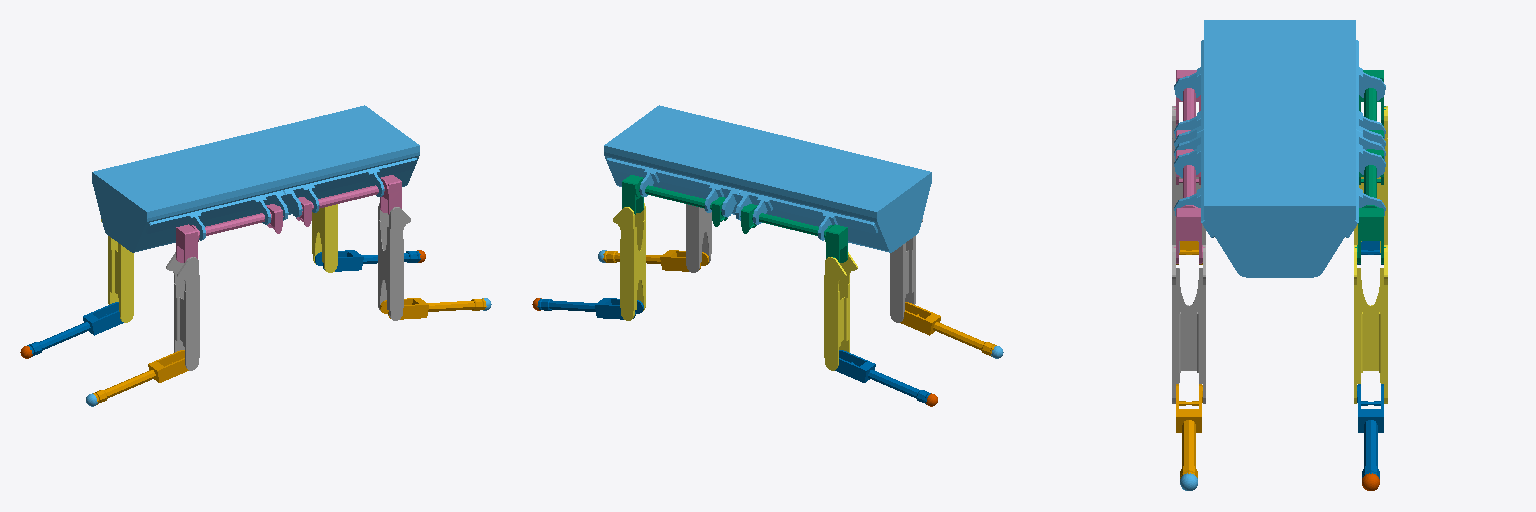
robot.urdf — hyq:
<?xml version="1.0" encoding="utf-8"?>
<!-- =================================================================================== -->
<!-- |    This document was autogenerated by xacro from hyq.urdf.xacro                 | -->
<!-- |    EDITING THIS FILE BY HAND IS NOT RECOMMENDED                                 | -->
<!-- =================================================================================== -->
<robot name="hyq">
  <!-- Floating-base Joint -->
  <joint name="floating_base" type="fixed">
    <origin rpy="0 0 0" xyz="0 0 0"/>
    <parent link="base"/>
    <child link="trunk"/>
  </joint>
  <!-- Footprint link -->
  <link name="base">
    <visual>
      <geometry>
        <cylinder length="0.01" radius="0.01"/>
      </geometry>
    </visual>
  </link>
  <!-- Trunk link -->
  <link name="trunk">
    <visual>
      <geometry>
        <mesh filename="../meshes/trunk/trunk.stl" scale="1 1 1"/>
      </geometry>
    </visual>
    <collision>
      <geometry>
        <mesh filename="../meshes/trunk/trunk.stl" scale="1 1 1"/>
      </geometry>
    </collision>
  </link>
  <!-- Joints -->
  <!-- Hip assembly joint -->
  <joint name="lf_haa_joint" type="revolute">
    <origin rpy="0 1.57079632679 3.14159265359" xyz="0.3735 0.207 0"/>
    <parent link="trunk"/>
    <child link="lf_hipassembly"/>
    <axis xyz="0 0 1"/>
    <limit effort="150.0" lower="-1.2217304764" upper="0.523598775598" velocity="12.0"/>
  </joint>
  <!-- Upper leg joint -->
  <joint name="lf_hfe_joint" type="revolute">
    <origin rpy="1.57079632679 0 0" xyz="0.082 0 0"/>
    <parent link="lf_hipassembly"/>
    <child link="lf_upperleg"/>
    <axis xyz="0 0 1"/>
    <limit effort="150.0" lower="-0.872664625997" upper="1.2217304764" velocity="12.0"/>
  </joint>
  <!-- Lower leg joint -->
  <joint name="lf_kfe_joint" type="revolute">
    <origin rpy="0 0 0" xyz="0.35 0 0"/>
    <parent link="lf_upperleg"/>
    <child link="lf_lowerleg"/>
    <axis xyz="0 0 1"/>
    <limit effort="150.0" lower="-2.44346095279" upper="-0.349065850399" velocity="12.0"/>
  </joint>
  <!-- Foot joint -->
  <joint name="lf_foot_joint" type="fixed">
    <origin rpy="1.57079632679 0 -1.57079632679" xyz="0.35 0 0"/>
    <parent link="lf_lowerleg"/>
    <child link="lf_foot"/>
  </joint>
  <!-- Links -->
  <!-- Hip assembly link -->
  <link name="lf_hipassembly">
    <visual>
      <origin rpy="0.0 0 0" xyz="0 0 0"/>
      <geometry>
        <mesh filename="../meshes/leg/hipassembly.stl" scale="1 1 1"/>
      </geometry>
    </visual>
  </link>
  <!-- Upper leg link -->
  <link name="lf_upperleg">
    <visual>
      <origin rpy="0.0 0 0" xyz="0 0 0"/>
      <geometry>
        <mesh filename="../meshes/leg/upperleg.stl" scale="1 1 1"/>
      </geometry>
    </visual>
  </link>
  <!-- Lower leg link -->
  <link name="lf_lowerleg">
    <visual>
      <geometry>
        <mesh filename="../meshes/leg/lowerleg.stl" scale="1 1 1"/>
      </geometry>
      <material name="white"/>
    </visual>
  </link>
  <!-- Foot link -->
  <link name="lf_foot">
    <visual>
      <origin rpy="0.0 0.0 0.0" xyz="0.0 0.0 0.0"/>
      <geometry>
        <sphere radius="0.021"/>
      </geometry>
    </visual>
  </link>
  <!-- Joints -->
  <!-- Hip assembly joint -->
  <joint name="rf_haa_joint" type="revolute">
    <origin rpy="0 1.57079632679 0" xyz="0.3735 -0.207 0"/>
    <parent link="trunk"/>
    <child link="rf_hipassembly"/>
    <axis xyz="0 0 1"/>
    <limit effort="150.0" lower="-1.2217304764" upper="0.523598775598" velocity="12.0"/>
  </joint>
  <!-- Upper leg joint -->
  <joint name="rf_hfe_joint" type="revolute">
    <origin rpy="-1.57079632679 0 0" xyz="0.082 0 0"/>
    <parent link="rf_hipassembly"/>
    <child link="rf_upperleg"/>
    <axis xyz="0 0 1"/>
    <limit effort="150.0" lower="-0.872664625997" upper="1.2217304764" velocity="12.0"/>
  </joint>
  <!-- Lower leg joint -->
  <joint name="rf_kfe_joint" type="revolute">
    <origin rpy="0 0 0" xyz="0.35 0 0"/>
    <parent link="rf_upperleg"/>
    <child link="rf_lowerleg"/>
    <axis xyz="0 0 1"/>
    <limit effort="150.0" lower="-2.44346095279" upper="-0.349065850399" velocity="12.0"/>
  </joint>
  <!-- Foot joint -->
  <joint name="rf_foot_joint" type="fixed">
    <origin rpy="1.57079632679 0 -1.57079632679" xyz="0.35 0 0"/>
    <parent link="rf_lowerleg"/>
    <child link="rf_foot"/>
  </joint>
  <!-- Links -->
  <!-- Hip assembly link -->
  <link name="rf_hipassembly">
    <visual>
      <origin rpy="3.14159265359 0 0" xyz="0 0 0"/>
      <geometry>
        <mesh filename="../meshes/leg/hipassembly.stl" scale="1 1 1"/>
      </geometry>
    </visual>
  </link>
  <!-- Upper leg link -->
  <link name="rf_upperleg">
    <visual>
      <origin rpy="0.0 0 0" xyz="0 0 0"/>
      <geometry>
        <mesh filename="../meshes/leg/upperleg.stl" scale="1 1 1"/>
      </geometry>
    </visual>
  </link>
  <!-- Lower leg link -->
  <link name="rf_lowerleg">
    <visual>
      <geometry>
        <mesh filename="../meshes/leg/lowerleg.stl" scale="1 1 1"/>
      </geometry>
      <material name="white"/>
    </visual>
  </link>
  <!-- Foot link -->
  <link name="rf_foot">
    <visual>
      <origin rpy="0.0 0.0 0.0" xyz="0.0 0.0 0.0"/>
      <geometry>
        <sphere radius="0.021"/>
      </geometry>
    </visual>
  </link>
  <!-- Joints -->
  <!-- Hip assembly joint -->
  <joint name="lh_haa_joint" type="revolute">
    <origin rpy="0 1.57079632679 3.14159265359" xyz="-0.3735 0.207 0"/>
    <parent link="trunk"/>
    <child link="lh_hipassembly"/>
    <axis xyz="0 0 1"/>
    <limit effort="150.0" lower="-1.2217304764" upper="0.523598775598" velocity="12.0"/>
  </joint>
  <!-- Upper leg joint -->
  <joint name="lh_hfe_joint" type="revolute">
    <origin rpy="1.57079632679 0 0" xyz="0.082 0 0"/>
    <parent link="lh_hipassembly"/>
    <child link="lh_upperleg"/>
    <axis xyz="0 0 1"/>
    <limit effort="150.0" lower="-1.2217304764" upper="0.872664625997" velocity="12.0"/>
  </joint>
  <!-- Lower leg joint -->
  <joint name="lh_kfe_joint" type="revolute">
    <origin rpy="0 0 0" xyz="0.35 0 0"/>
    <parent link="lh_upperleg"/>
    <child link="lh_lowerleg"/>
    <axis xyz="0 0 1"/>
    <limit effort="150.0" lower="0.349065850399" upper="2.44346095279" velocity="12.0"/>
  </joint>
  <!-- Foot joint -->
  <joint name="lh_foot_joint" type="fixed">
    <origin rpy="1.57079632679 0 -1.57079632679" xyz="0.35 0 0"/>
    <parent link="lh_lowerleg"/>
    <child link="lh_foot"/>
  </joint>
  <!-- Links -->
  <!-- Hip assembly link -->
  <link name="lh_hipassembly">
    <visual>
      <origin rpy="3.14159265359 0 0" xyz="0 0 0"/>
      <geometry>
        <mesh filename="../meshes/leg/hipassembly.stl" scale="1 1 1"/>
      </geometry>
    </visual>
  </link>
  <!-- Upper leg link -->
  <link name="lh_upperleg">
    <visual>
      <origin rpy="3.14159265359 0 0" xyz="0 0 0"/>
      <geometry>
        <mesh filename="../meshes/leg/upperleg.stl" scale="1 1 1"/>
      </geometry>
    </visual>
  </link>
  <!-- Lower leg link -->
  <link name="lh_lowerleg">
    <visual>
      <geometry>
        <mesh filename="../meshes/leg/lowerleg.stl" scale="1 1 1"/>
      </geometry>
      <material name="white"/>
    </visual>
  </link>
  <!-- Foot link -->
  <link name="lh_foot">
    <visual>
      <origin rpy="0.0 0.0 0.0" xyz="0.0 0.0 0.0"/>
      <geometry>
        <sphere radius="0.021"/>
      </geometry>
    </visual>
  </link>
  <!-- Joints -->
  <!-- Hip assembly joint -->
  <joint name="rh_haa_joint" type="revolute">
    <origin rpy="0 1.57079632679 0" xyz="-0.3735 -0.207 0"/>
    <parent link="trunk"/>
    <child link="rh_hipassembly"/>
    <axis xyz="0 0 1"/>
    <limit effort="150.0" lower="-1.2217304764" upper="0.523598775598" velocity="12.0"/>
  </joint>
  <!-- Upper leg joint -->
  <joint name="rh_hfe_joint" type="revolute">
    <origin rpy="-1.57079632679 0 0" xyz="0.082 0 0"/>
    <parent link="rh_hipassembly"/>
    <child link="rh_upperleg"/>
    <axis xyz="0 0 1"/>
    <limit effort="150.0" lower="-1.2217304764" upper="0.872664625997" velocity="12.0"/>
  </joint>
  <!-- Lower leg joint -->
  <joint name="rh_kfe_joint" type="revolute">
    <origin rpy="0 0 0" xyz="0.35 0 0"/>
    <parent link="rh_upperleg"/>
    <child link="rh_lowerleg"/>
    <axis xyz="0 0 1"/>
    <limit effort="150.0" lower="0.349065850399" upper="2.44346095279" velocity="12.0"/>
  </joint>
  <!-- Foot joint -->
  <joint name="rh_foot_joint" type="fixed">
    <origin rpy="1.57079632679 0 -1.57079632679" xyz="0.35 0 0"/>
    <parent link="rh_lowerleg"/>
    <child link="rh_foot"/>
  </joint>
  <!-- Links -->
  <!-- Hip assembly link -->
  <link name="rh_hipassembly">
    <visual>
      <origin rpy="0.0 0 0" xyz="0 0 0"/>
      <geometry>
        <mesh filename="../meshes/leg/hipassembly.stl" scale="1 1 1"/>
      </geometry>
    </visual>
  </link>
  <!-- Upper leg link -->
  <link name="rh_upperleg">
    <visual>
      <origin rpy="3.14159265359 0 0" xyz="0 0 0"/>
      <geometry>
        <mesh filename="../meshes/leg/upperleg.stl" scale="1 1 1"/>
      </geometry>
    </visual>
  </link>
  <!-- Lower leg link -->
  <link name="rh_lowerleg">
    <visual>
      <geometry>
        <mesh filename="../meshes/leg/lowerleg.stl" scale="1 1 1"/>
      </geometry>
      <material name="white"/>
    </visual>
  </link>
  <!-- Foot link -->
  <link name="rh_foot">
    <visual>
      <origin rpy="0.0 0.0 0.0" xyz="0.0 0.0 0.0"/>
      <geometry>
        <sphere radius="0.021"/>
      </geometry>
    </visual>
  </link>
</robot>

--- Facts derived from the render (not from the file) ---
3 views of the same robot in one strip: view 1: azimuth 30°, elevation 25°; view 2: azimuth 150°, elevation 25°; view 3: azimuth 270°, elevation 25° (orthographic).
Robot: hyq — 18 links, 17 joints (12 revolute, 5 fixed); root link base; default pose: all joints at 0 but 4 set to mid-range because 0 is outside their limits (lf_kfe_joint = -1.4, rf_kfe_joint = -1.4, lh_kfe_joint = 1.4, rh_kfe_joint = 1.4).
Links seen in each view (by area): view 1: trunk, rf_upperleg, rh_upperleg, lh_upperleg, rh_hipassembly, rf_hipassembly, lf_upperleg, rh_lowerleg, lh_lowerleg, rf_lowerleg, lf_lowerleg; view 2: trunk, lf_upperleg, lh_upperleg, rh_upperleg, lh_hipassembly, lf_hipassembly, rf_upperleg, lh_lowerleg, rh_lowerleg, lf_lowerleg, rf_lowerleg; view 3: trunk, lf_upperleg, rf_upperleg, lf_hipassembly, rf_hipassembly, lf_lowerleg, rf_lowerleg, lh_upperleg, rh_upperleg, lh_hipassembly, rh_hipassembly.
Boxes of the visible links, x1,y1,x2,y2 form: trunk: (92,105,419,252); rf_upperleg: (378,203,410,320); rh_upperleg: (166,252,199,370); lh_upperleg: (101,219,133,322); rh_hipassembly: (176,204,283,262); rf_hipassembly: (296,175,401,226); lf_upperleg: (312,204,337,272); rh_lowerleg: (93,350,188,404); lh_lowerleg: (27,302,123,356); rf_lowerleg: (380,298,486,319); lf_lowerleg: (315,250,420,271); trunk: (604,105,931,252); lf_upperleg: (613,203,645,320); lh_upperleg: (824,252,857,370); rh_upperleg: (890,219,922,322); lh_hipassembly: (740,204,847,262); lf_hipassembly: (622,175,727,226); rf_upperleg: (686,204,711,272); lh_lowerleg: (835,350,930,404); rh_lowerleg: (900,302,996,356); lf_lowerleg: (537,298,643,319); rf_lowerleg: (603,250,708,271); trunk: (1174,20,1385,277); lf_upperleg: (1354,245,1387,403); rf_upperleg: (1172,245,1205,403); lf_hipassembly: (1355,149,1385,263); rf_hipassembly: (1174,149,1204,263); lf_lowerleg: (1357,384,1383,478); rf_lowerleg: (1176,384,1202,478); lh_upperleg: (1354,106,1387,252); rh_upperleg: (1172,106,1205,252); lh_hipassembly: (1359,70,1385,137); rh_hipassembly: (1174,70,1200,137).
Size in the robot's own frame: 1.48 by 0.492 by 0.6138 metres.
Meshes: 4 distinct files referenced, 13 mesh visuals loaded (4 binary STL).